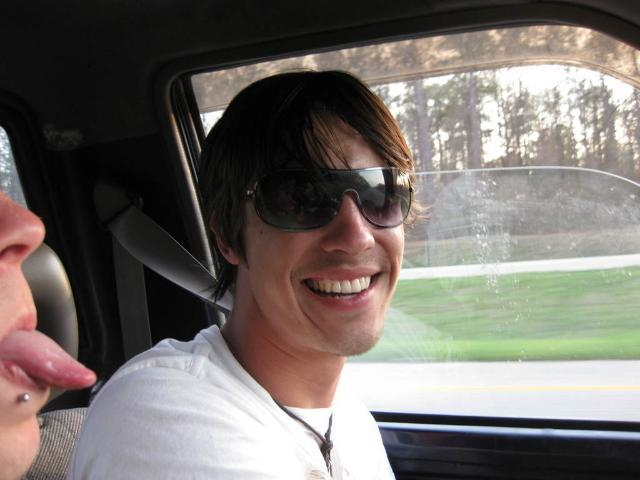Seatbelt: (107, 206, 236, 310)
